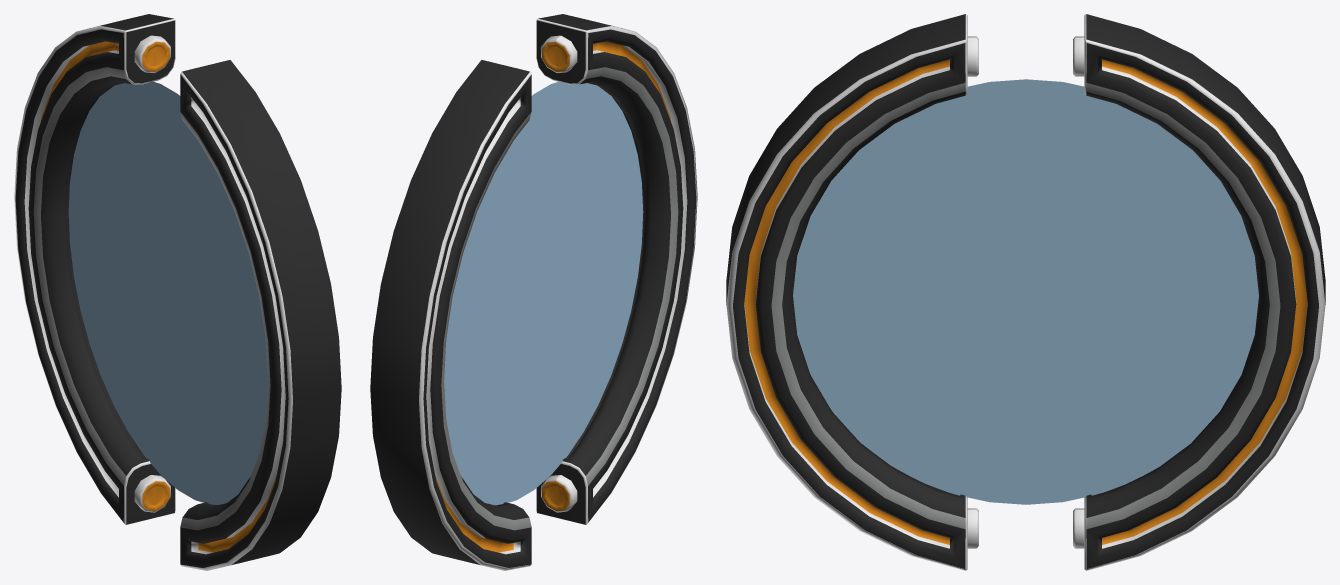
File: Portal_Marco.fbx
3 views of the same model, side by side, from view 1: azimuth 30°, elevation 25°; view 2: azimuth 150°, elevation 25°; view 3: azimuth 270°, elevation 25° (orthographic). The views are drawn at different scales.
Visible parts, largest first — view 1: Cylinder.015, Cylinder.016; view 2: Cylinder.015, Cylinder.016; view 3: Cylinder.016, Cylinder.015.
Boxes of the visible parts, box(x1,y1,x2,y2) form: Cylinder.015: box(14, 14, 341, 570); Cylinder.016: box(68, 81, 267, 504); Cylinder.015: box(370, 14, 697, 570); Cylinder.016: box(444, 81, 643, 505); Cylinder.016: box(793, 79, 1258, 504); Cylinder.015: box(726, 14, 1325, 570).
Bounding box in the file's own units: 22.71 × 207 × 212.
